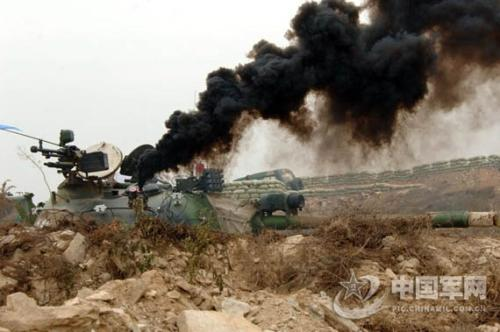smoke: (123, 1, 500, 182)
